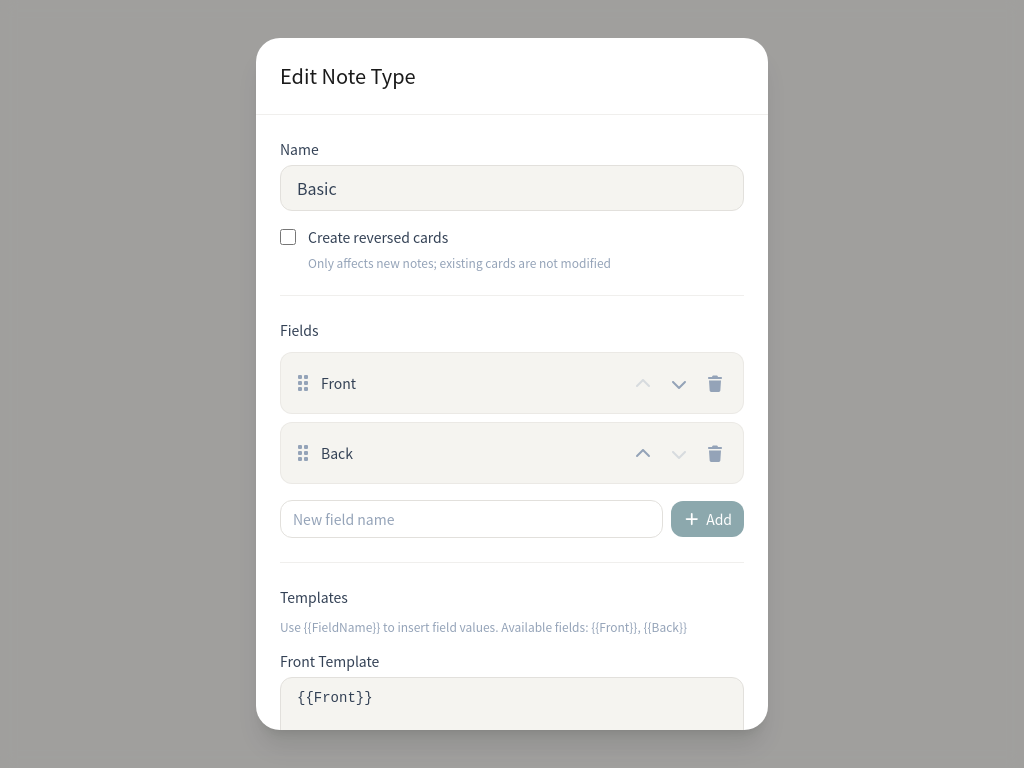
Test case: NoteTypeEditor › adds a new field via the local repository
Expected: the field labelled "Name" is shown, [280,165,744,211]
Type "Hint" into the field with placeholder "New field name". click: [471, 519]
box: [280,500,663,538]
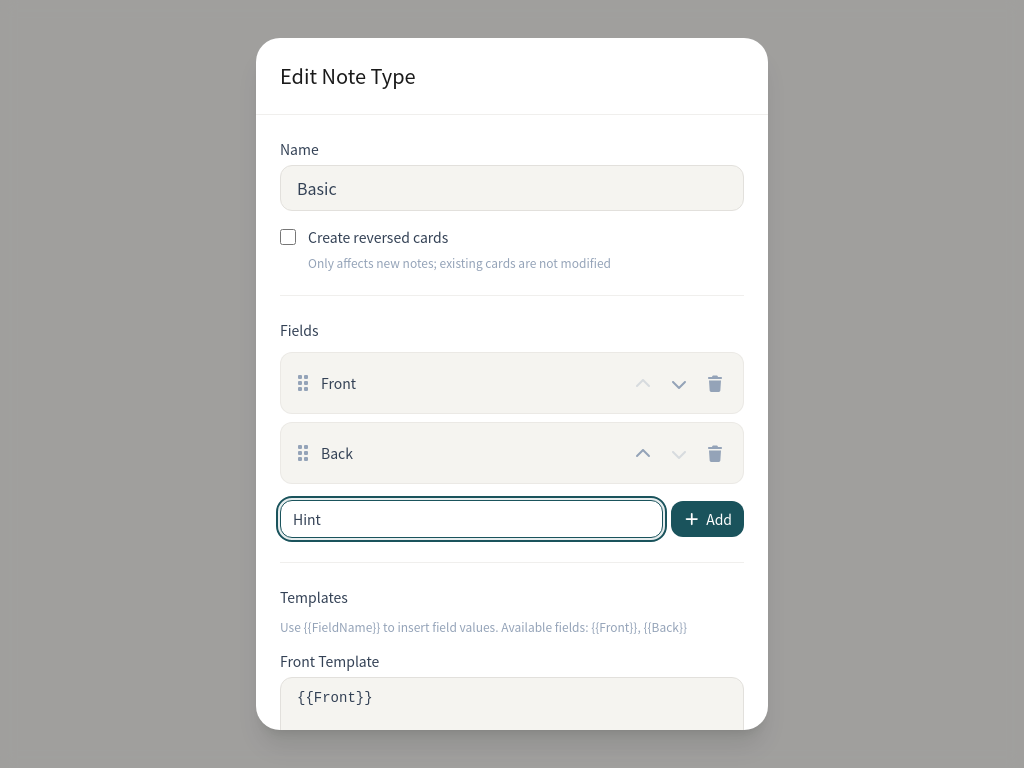
Click the button "Add". click: [707, 519]
box: [671,501,744,537]
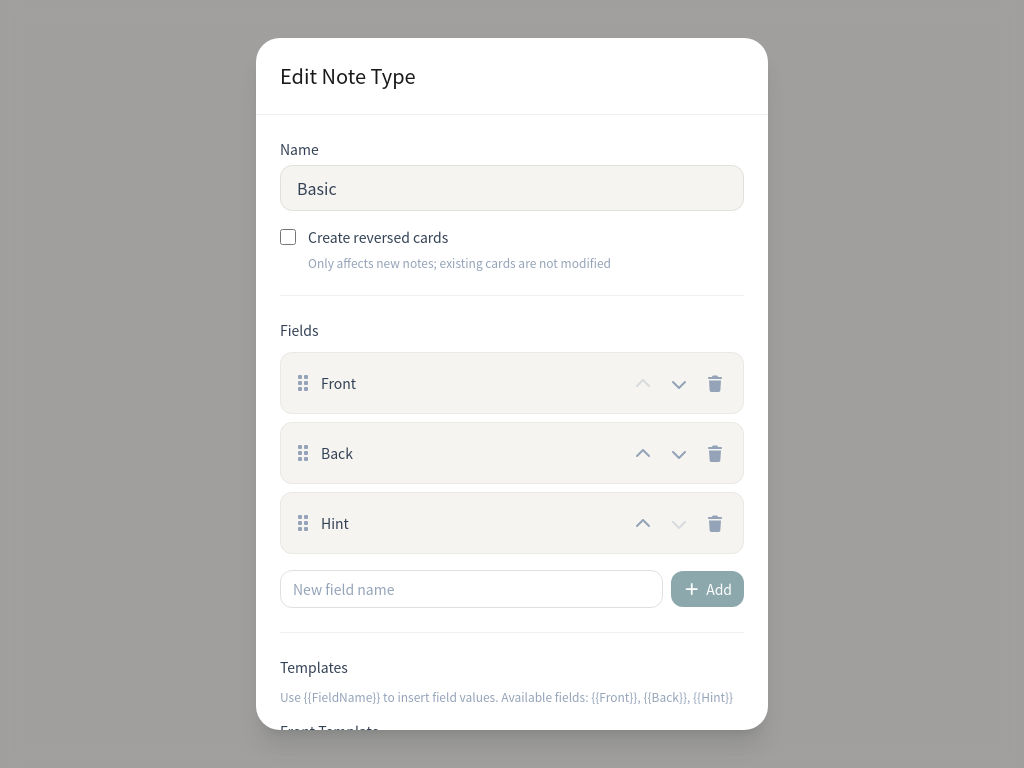
Now the button "Hint" is shown, box [321,513,619,533]
